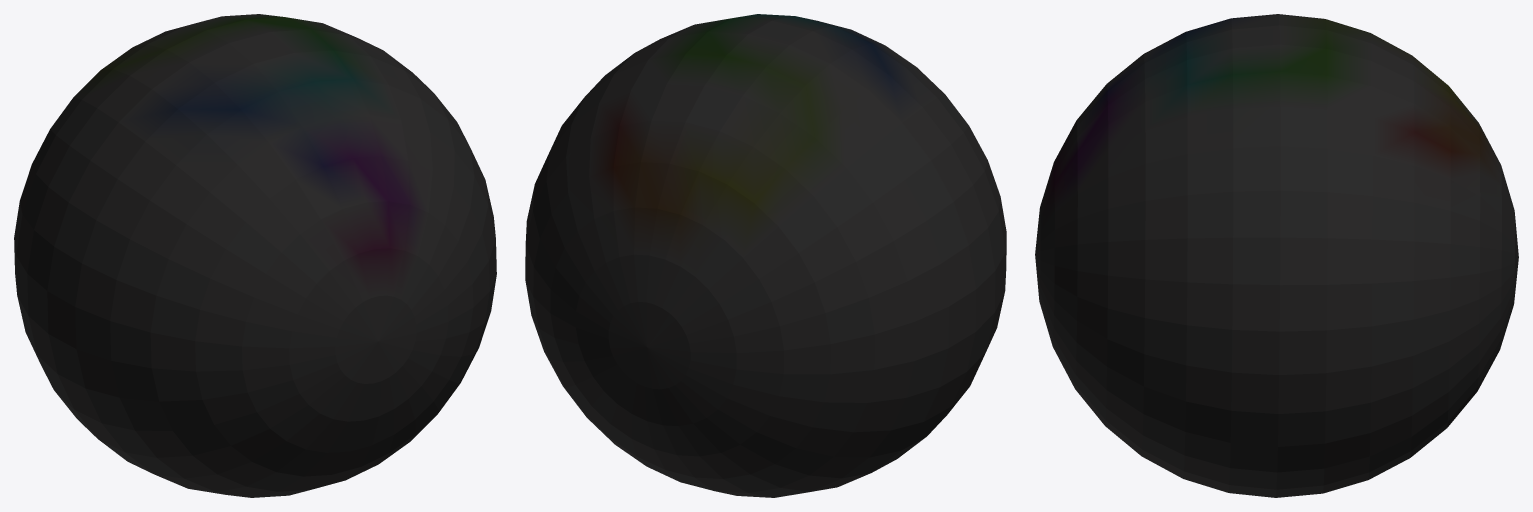
The model's file is bullet.fbx.
The picture shows the model from 3 angles, left to right: view 1: azimuth 30°, elevation 25°; view 2: azimuth 150°, elevation 25°; view 3: azimuth 270°, elevation 25°; orthographic projection.
Parts seen in each view (by area): view 1: Sphere; view 2: Sphere; view 3: Sphere.
Part boxes in pixels (x1=…): Sphere: x1=14, y1=14, x2=496, y2=497; Sphere: x1=525, y1=14, x2=1006, y2=497; Sphere: x1=1035, y1=14, x2=1518, y2=497.
Bounding box in the file's own units: 25.6 × 25.6 × 25.59.
